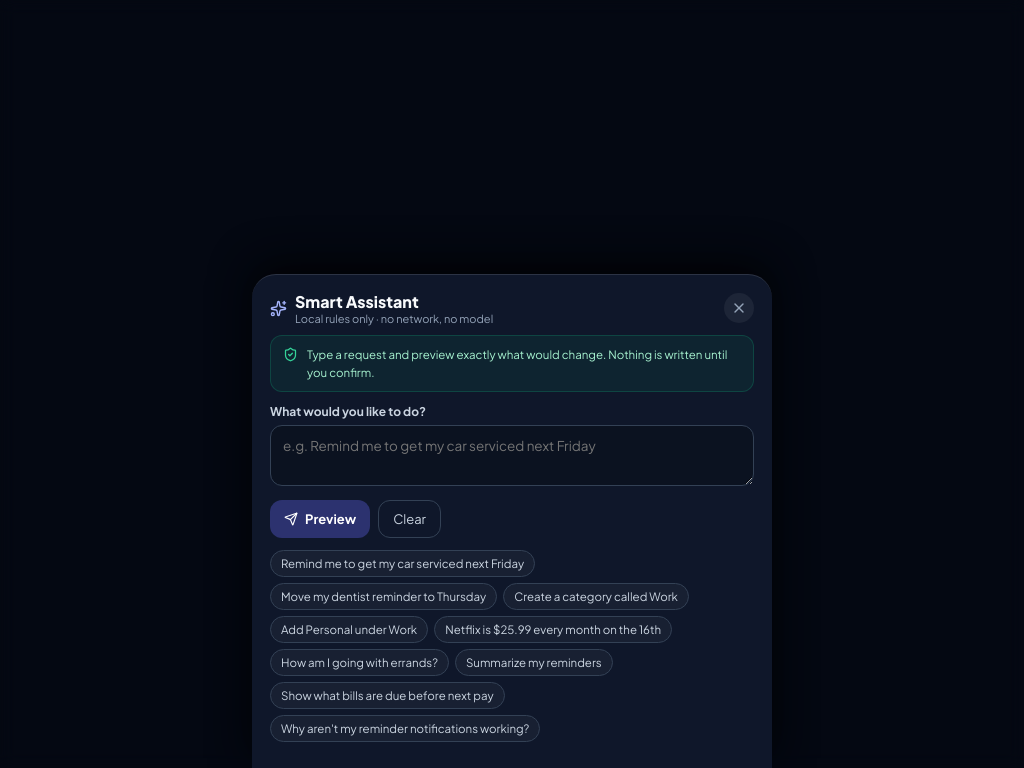
Test case: MindMesh Smart Assistant surface › renders structured reminder facts as a read-only summary
The image size is (1024, 768).
Type "Summarize my reminders" into the text box with test id "smart-assistant-command" at coordinates (512, 455), box [270, 425, 754, 486]
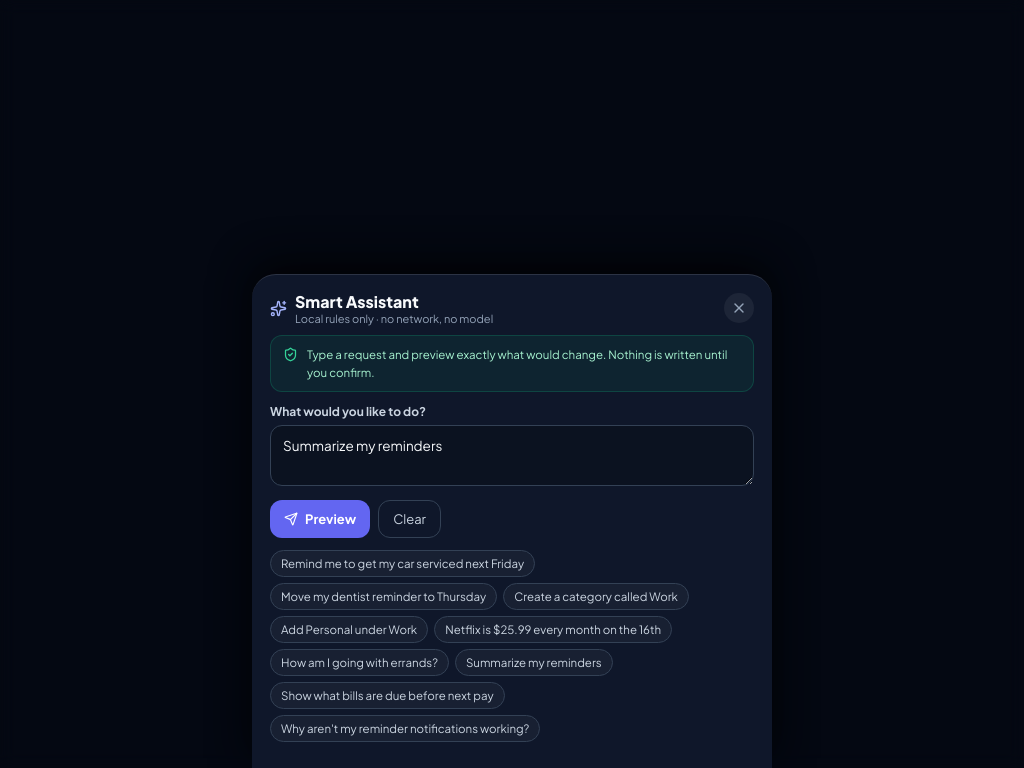
Click the button with test id "smart-assistant-ready" at coordinates (320, 519), box [270, 500, 370, 538]
(page scrolled)
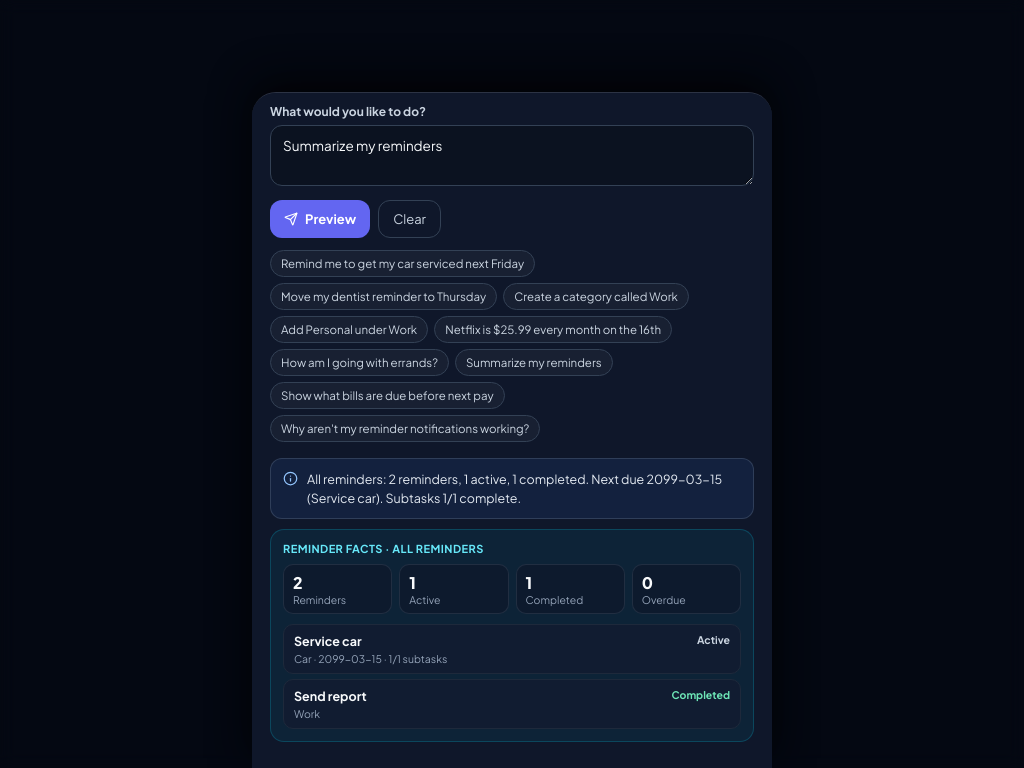
Expected: the element with test id "smart-assistant-graph-summary" is shown, [270, 529, 754, 742]
Expected: the text "Service car" is shown, [294, 633, 362, 649]
Expected: the text "Send report" is shown, [294, 688, 367, 704]
